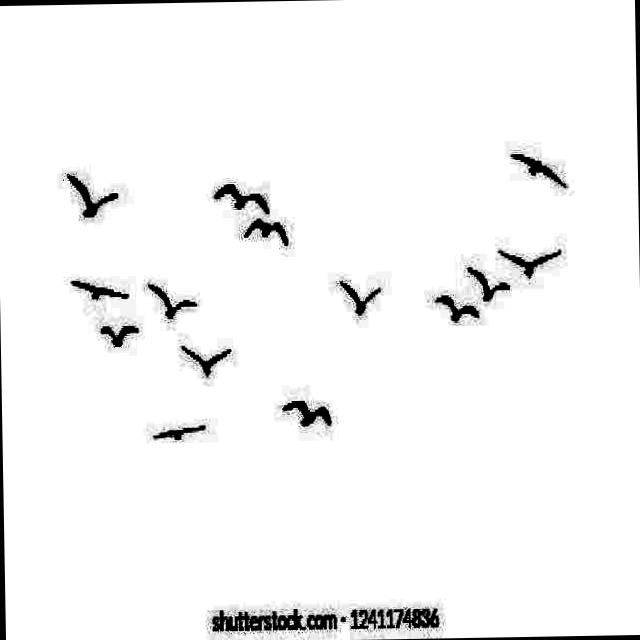bird: (493, 239, 565, 300), (64, 164, 122, 236), (138, 275, 210, 327), (452, 253, 512, 314), (508, 146, 570, 204), (68, 262, 134, 311), (334, 272, 384, 328), (179, 336, 236, 383), (210, 177, 270, 220), (157, 412, 212, 454), (90, 312, 142, 356), (281, 390, 335, 432), (424, 290, 476, 332), (242, 210, 292, 250)
